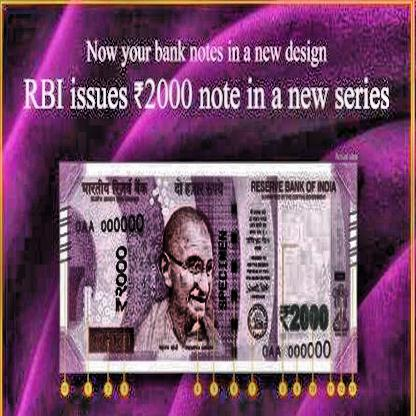Rs2000: (277, 300, 332, 334)
